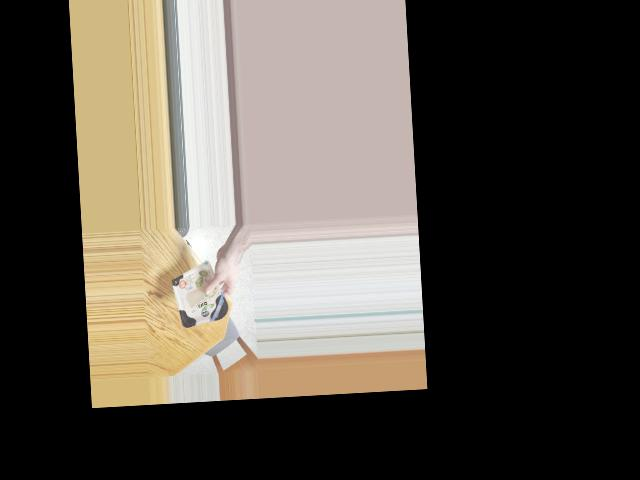cheese: (172, 270, 227, 326)
